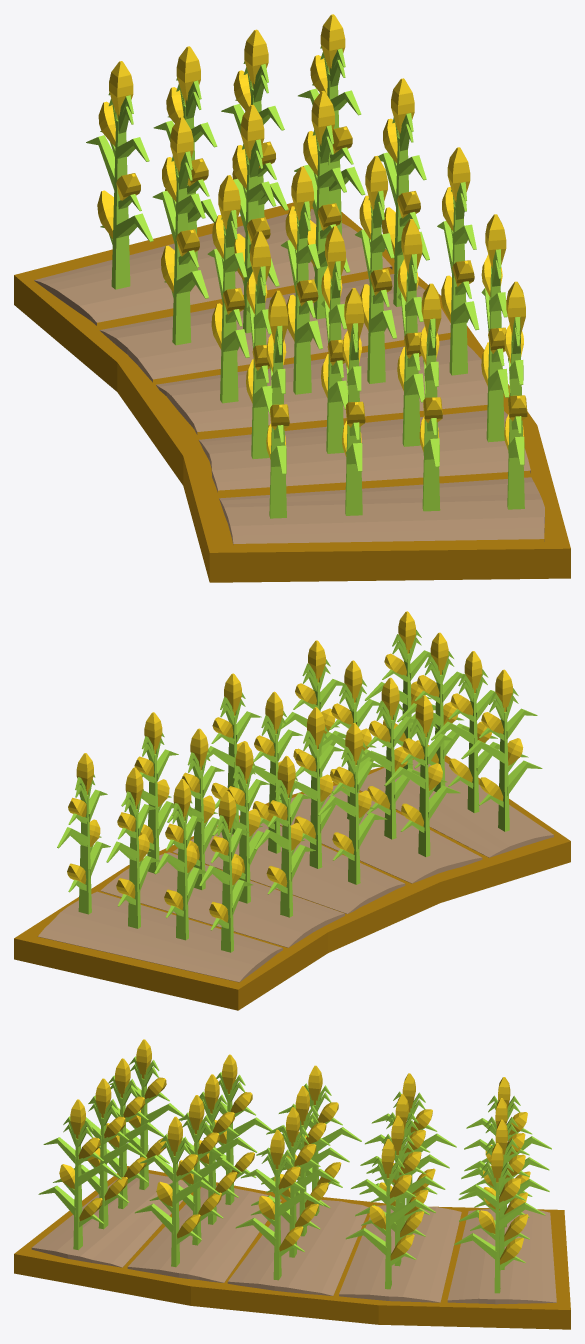
The model's file is middlecircle-planted2.fbx.
The picture shows the model from 3 angles, top to bottom: view 1: azimuth 30°, elevation 25°; view 2: azimuth 150°, elevation 25°; view 3: azimuth 270°, elevation 25°; orthographic projection. The views are drawn at different scales.
Visible parts, largest first — view 1: Cylinder.109, Object_3.037, Object_3.021, Object_3.017, Object_3.020, Object_3.018, Object_3.019, Object_3.024, Object_3.023, Object_3.016, Object_3.015, Object_3.014 (+9 smaller); view 2: Cylinder.109, Object_3.038, Object_3.013, Object_3.017, Object_3.021, Object_3.010, Object_3.014, Object_3.018, Object_3.037, Object_3.040, Object_3.039, Object_3.041 (+9 smaller); view 3: Cylinder.109, Object_3.012, Object_3.016, Object_3.020, Object_3.024, Object_3.041, Object_3.011, Object_3.015, Object_3.010, Object_3.038, Object_3.019, Object_3.013 (+9 smaller).
Boxes of the visible parts, <box> form: Cylinder.109: <box>14,202,570,582</box>; Object_3.037: <box>86,61,153,289</box>; Object_3.021: <box>152,116,208,345</box>; Object_3.017: <box>207,175,249,403</box>; Object_3.020: <box>437,147,479,375</box>; Object_3.018: <box>281,166,322,394</box>; Object_3.019: <box>355,155,396,383</box>; Object_3.024: <box>378,78,429,306</box>; Object_3.023: <box>294,90,350,319</box>; Object_3.016: <box>481,214,509,442</box>; Object_3.015: <box>397,219,424,446</box>; Object_3.014: <box>321,226,347,453</box>; Cylinder.109: <box>14,755,570,1010</box>; Object_3.038: <box>461,669,542,831</box>; Object_3.013: <box>384,695,460,856</box>; Object_3.017: <box>318,723,387,884</box>; Object_3.021: <box>254,755,315,917</box>; Object_3.010: <box>431,651,499,813</box>; Object_3.014: <box>360,677,420,839</box>; Object_3.018: <box>279,707,348,868</box>; Object_3.037: <box>199,791,252,952</box>; Object_3.040: <box>106,767,159,928</box>; Object_3.039: <box>154,779,205,940</box>; Object_3.041: <box>57,753,110,914</box>; Cylinder.109: <box>14,1166,570,1329</box>; Object_3.012: <box>38,1099,121,1250</box>; Object_3.016: <box>135,1116,220,1267</box>; Object_3.020: <box>235,1129,324,1280</box>; Object_3.024: <box>345,1139,435,1289</box>; Object_3.041: <box>454,1143,545,1293</box>; Object_3.011: <box>73,1078,147,1229</box>; Object_3.015: <box>156,1095,241,1245</box>; Object_3.010: <box>88,1058,164,1208</box>; Object_3.038: <box>109,1039,184,1189</box>; Object_3.019: <box>251,1107,339,1257</box>; Object_3.013: <box>200,1054,272,1204</box>.
Bounding box in the file's own units: 1581 × 878 × 2580.
